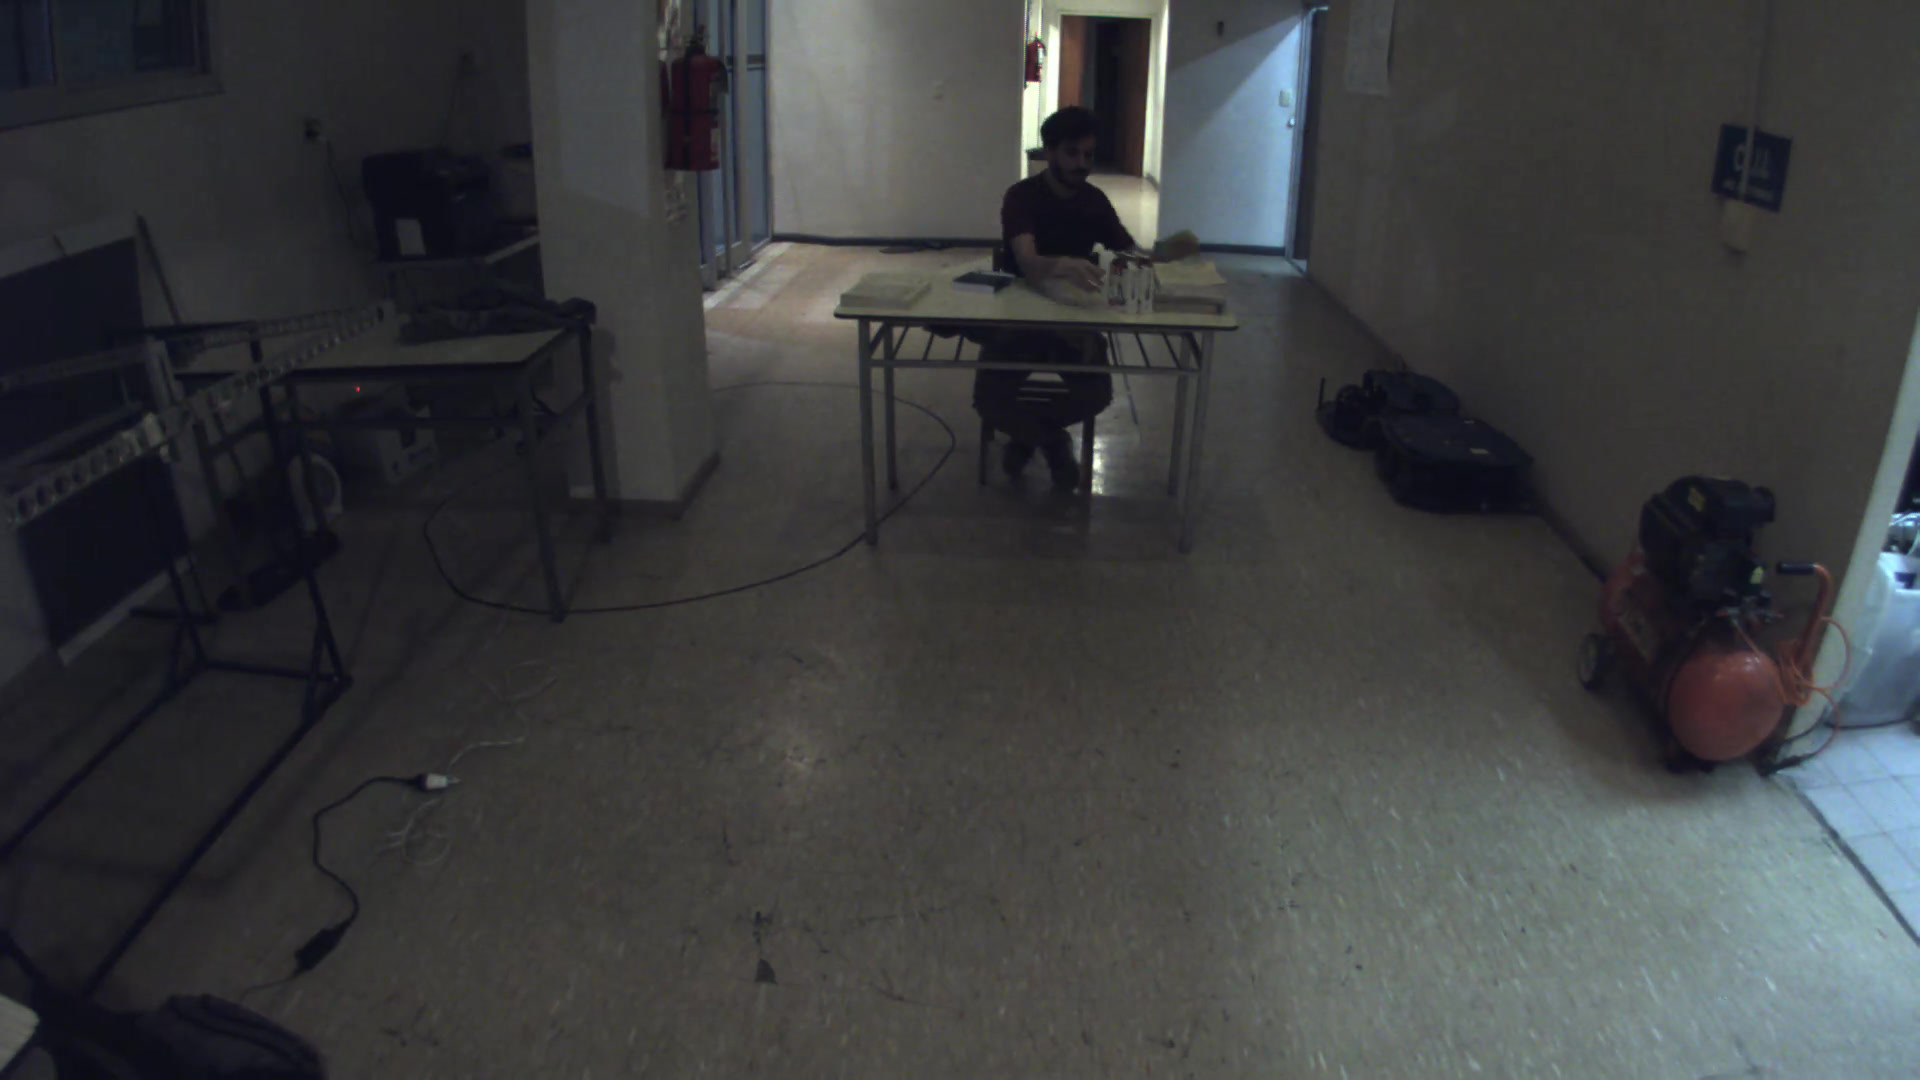hand: (1143, 218, 1209, 262), (1055, 248, 1106, 295)
